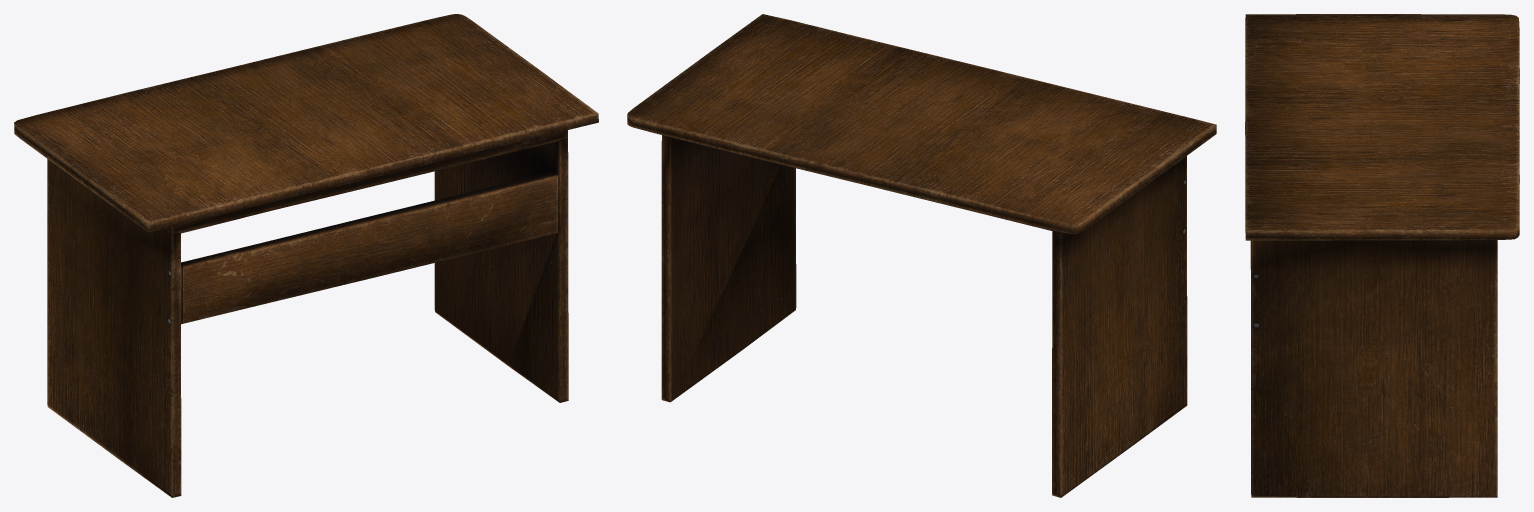
The model's file is tbl.glb.
3 renders of one model, left to right at view 1: azimuth 30°, elevation 25°; view 2: azimuth 150°, elevation 25°; view 3: azimuth 270°, elevation 25°, orthographic. The views are drawn at different scales.
Visible parts, largest first — view 1: Object_2; view 2: Object_2; view 3: Object_2.
Part boxes in pixels (box(x1,y1,x2,y2)): Object_2: box(14, 14, 598, 497); Object_2: box(627, 14, 1216, 497); Object_2: box(1245, 14, 1519, 497).
Bounding box in the file's own units: 36.03 × 21.74 × 19.24.
1 material, 1 textured.
